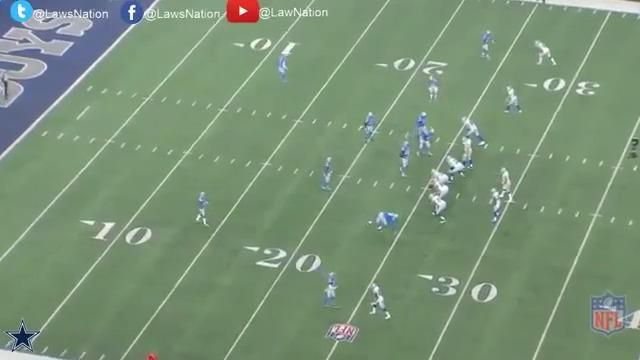defense: (367, 209, 401, 234), (323, 269, 343, 308), (360, 111, 379, 147), (196, 190, 213, 230), (396, 140, 412, 180), (417, 125, 436, 158), (479, 29, 497, 62), (319, 155, 334, 194), (275, 50, 292, 84), (425, 73, 442, 104), (414, 111, 430, 141)
oline: (429, 192, 448, 225), (445, 154, 467, 181), (428, 169, 450, 194), (462, 135, 477, 171), (434, 173, 451, 204)
qb: (497, 165, 514, 203)
ref: (0, 66, 10, 103)
skill: (368, 280, 393, 322), (460, 115, 486, 147), (532, 39, 557, 68), (488, 185, 505, 225), (504, 85, 524, 117)
